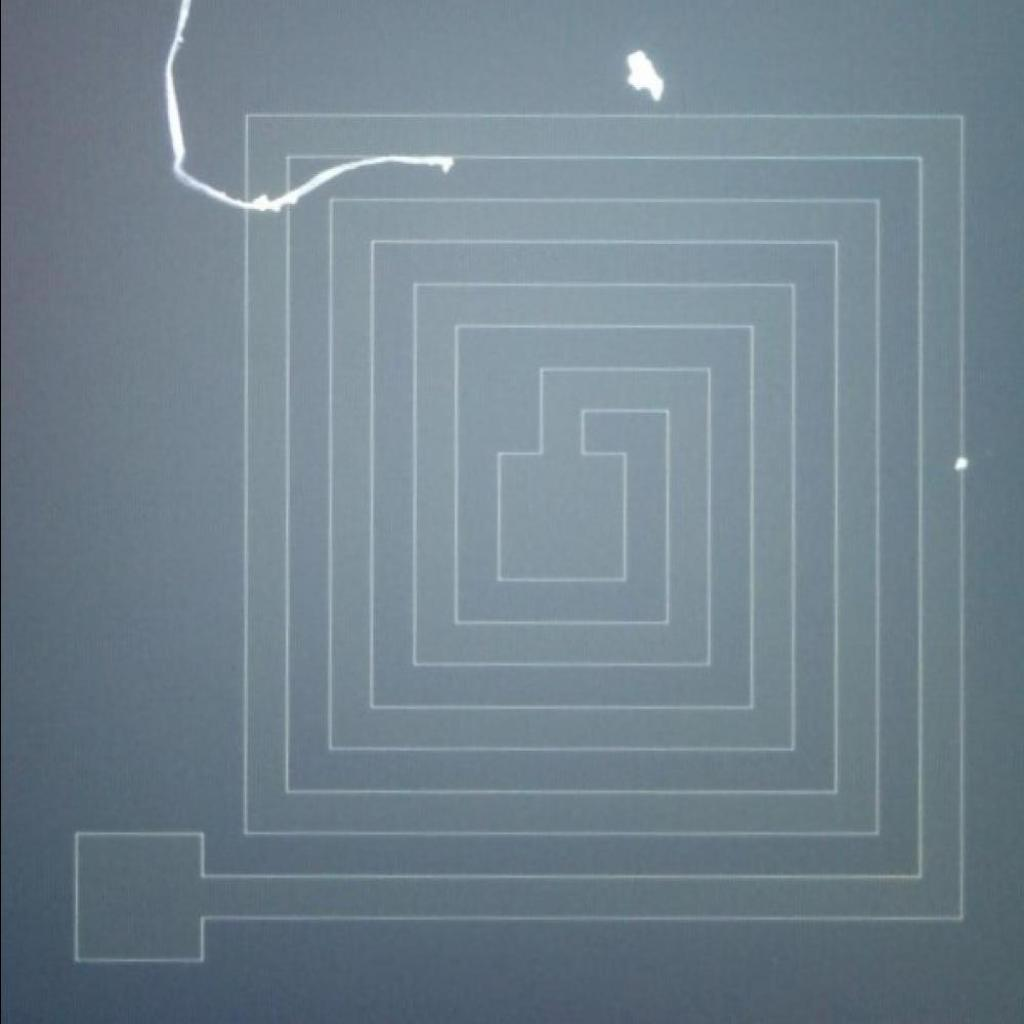line: (160, 0, 452, 216)
spot: (616, 39, 671, 106), (940, 442, 976, 480)
